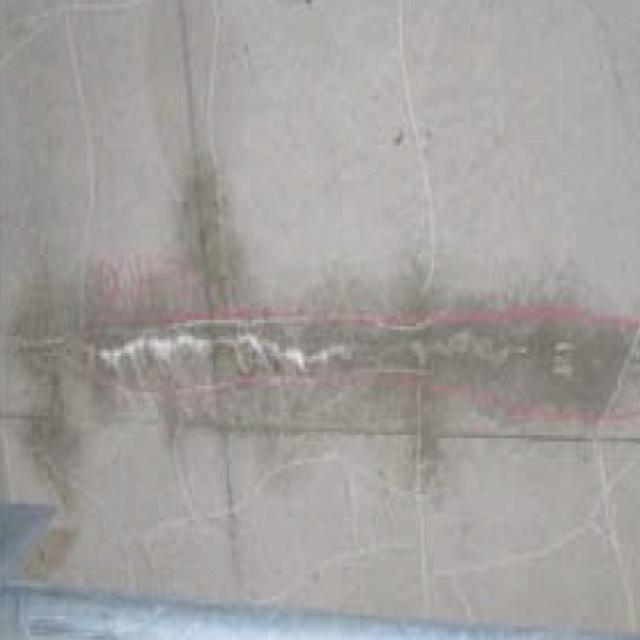leakage: (13, 187, 623, 444)
